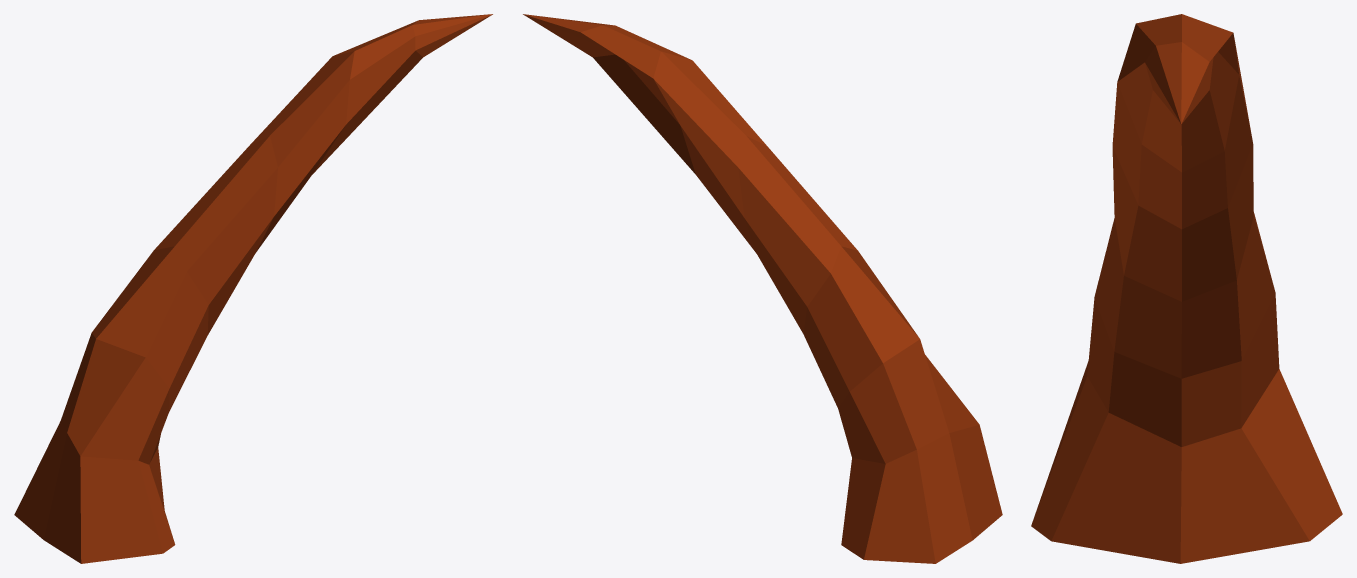
Rendered from Hell Spike.fbx.
The picture shows the model from 3 angles, left to right: view 1: azimuth 30°, elevation 25°; view 2: azimuth 150°, elevation 25°; view 3: azimuth 270°, elevation 25°; orthographic projection. The views are drawn at different scales.
Visible parts, largest first — view 1: Spike; view 2: Spike; view 3: Spike.
Boxes of the visible parts, x1=… form: Spike: x1=14, y1=14, x2=492, y2=563; Spike: x1=523, y1=14, x2=1002, y2=563; Spike: x1=1031, y1=14, x2=1342, y2=563.
Bounding box in the file's own units: 303 × 782 × 866.
